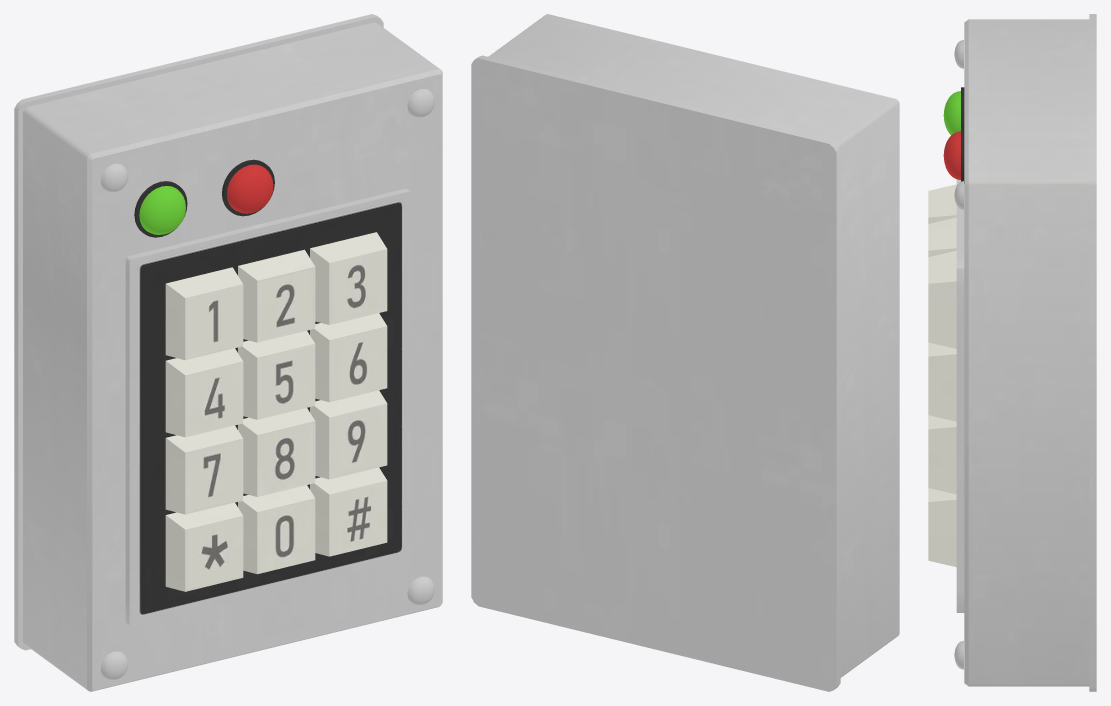
Rendered from keypad_door_lock.glb.
3 renders of one model, left to right at view 1: azimuth 30°, elevation 25°; view 2: azimuth 150°, elevation 25°; view 3: azimuth 270°, elevation 25°, orthographic. The views are drawn at different scales.
Visible parts, largest first — view 1: KeypadDoorLock; view 2: KeypadDoorLock; view 3: KeypadDoorLock.
Part boxes in pixels (x1=…): KeypadDoorLock: x1=14, y1=14, x2=442, y2=691; KeypadDoorLock: x1=471, y1=14, x2=899, y2=691; KeypadDoorLock: x1=928, y1=14, x2=1096, y2=691.
Size of the model in its own units: 0.1396 by 0.2 by 0.0591.
Materials: 1 (1 with a texture image).
